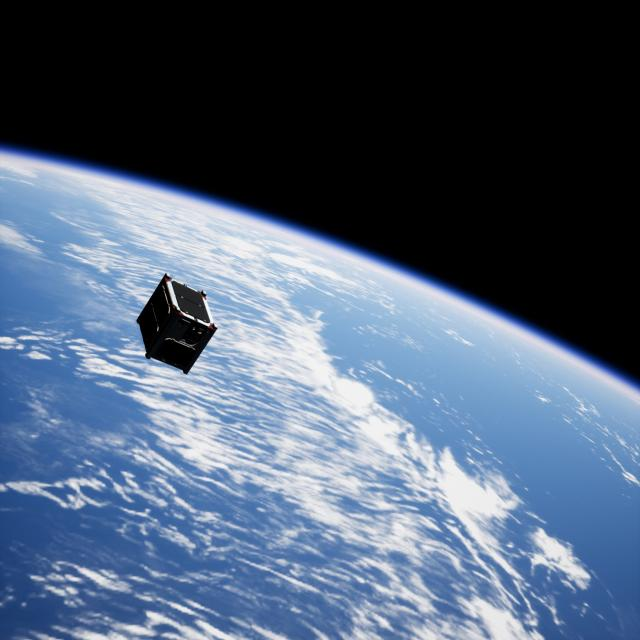satellite: (134, 270, 223, 378)
